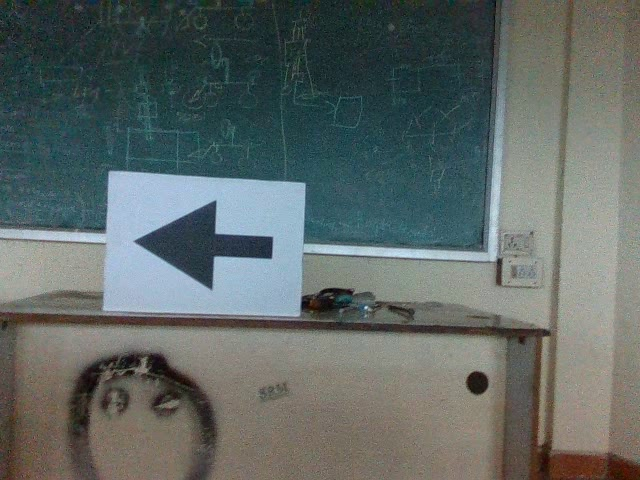Left: (129, 196, 279, 294)
